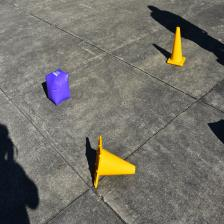cone: (94, 136, 136, 188), (166, 25, 186, 67)
cube: (45, 68, 71, 106)
